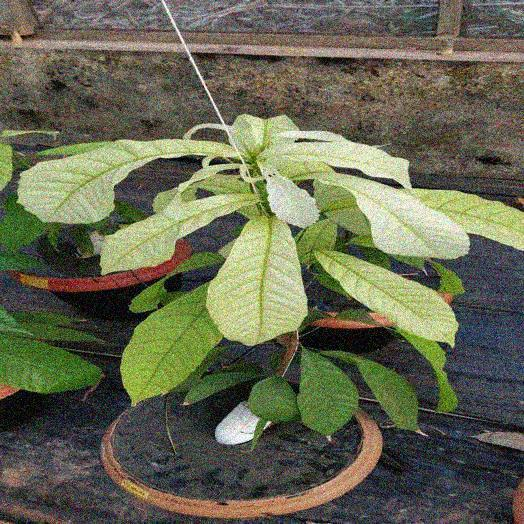Healthy Leaf: (0, 306, 103, 398), (323, 351, 417, 428), (130, 253, 223, 312), (297, 350, 357, 435), (397, 329, 457, 411), (0, 196, 45, 251), (248, 375, 299, 422)
Iron: (19, 140, 236, 223), (316, 251, 457, 344), (206, 216, 307, 345), (320, 174, 469, 258), (101, 193, 254, 274), (122, 285, 222, 404), (258, 139, 410, 187), (412, 189, 523, 250), (233, 114, 297, 159), (268, 172, 319, 228), (315, 182, 369, 232), (177, 164, 241, 193), (297, 219, 337, 264), (196, 174, 249, 194), (281, 131, 348, 141), (153, 194, 166, 210)
